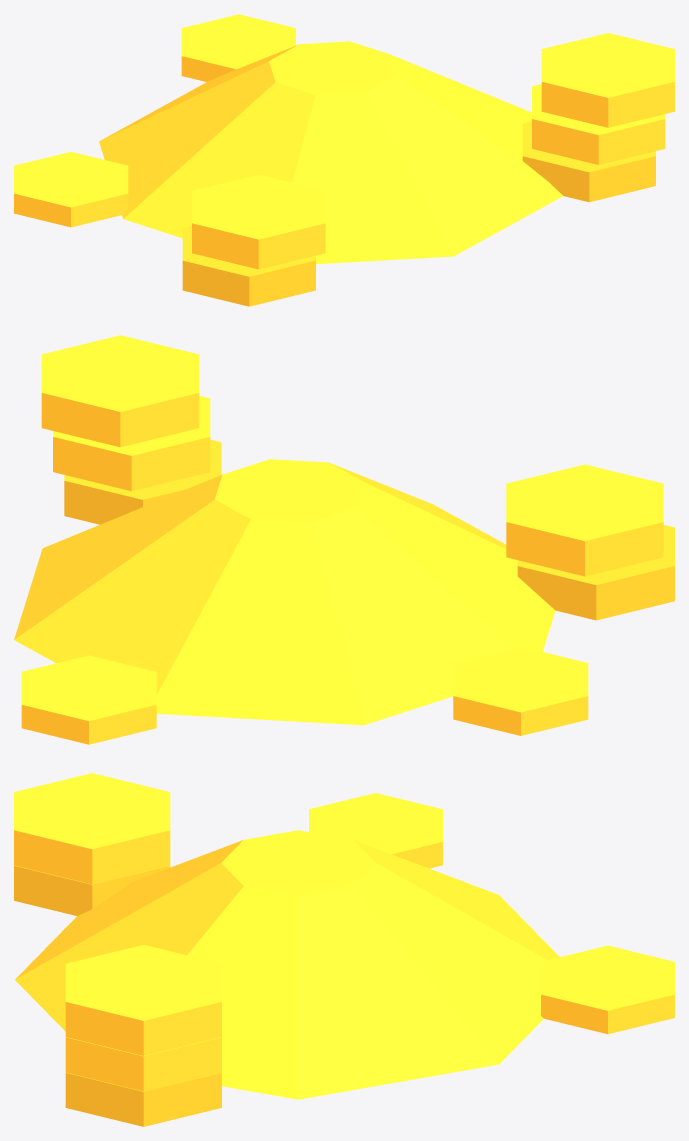
Rendered from gold.glb.
3 renders of one model, top to bottom at view 1: azimuth 30°, elevation 25°; view 2: azimuth 150°, elevation 25°; view 3: azimuth 270°, elevation 25°, orthographic. The views are drawn at different scales.
Visible parts, largest first — view 1: gold; view 2: gold; view 3: gold.
Part boxes in pixels (bbox=[...]): gold: bbox=[14, 14, 674, 306]; gold: bbox=[14, 335, 674, 744]; gold: bbox=[14, 773, 674, 1126].
Size of the model in its own units: 0.7375 by 0.125 by 0.6407.
